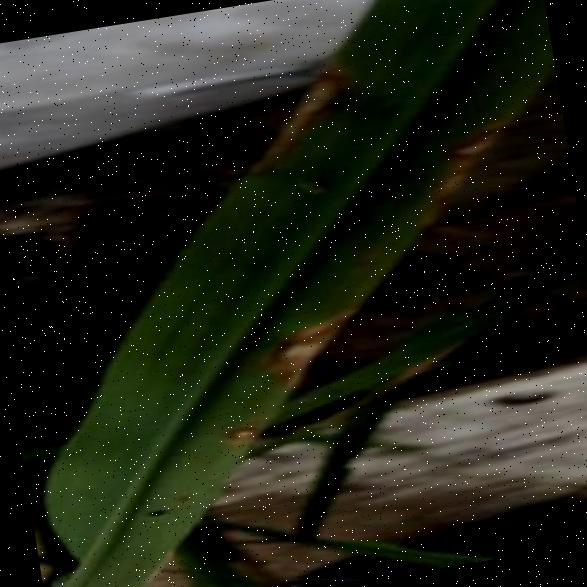Leaf_smut: (236, 42, 380, 192), (232, 293, 382, 407), (394, 98, 532, 220), (199, 398, 297, 479)
